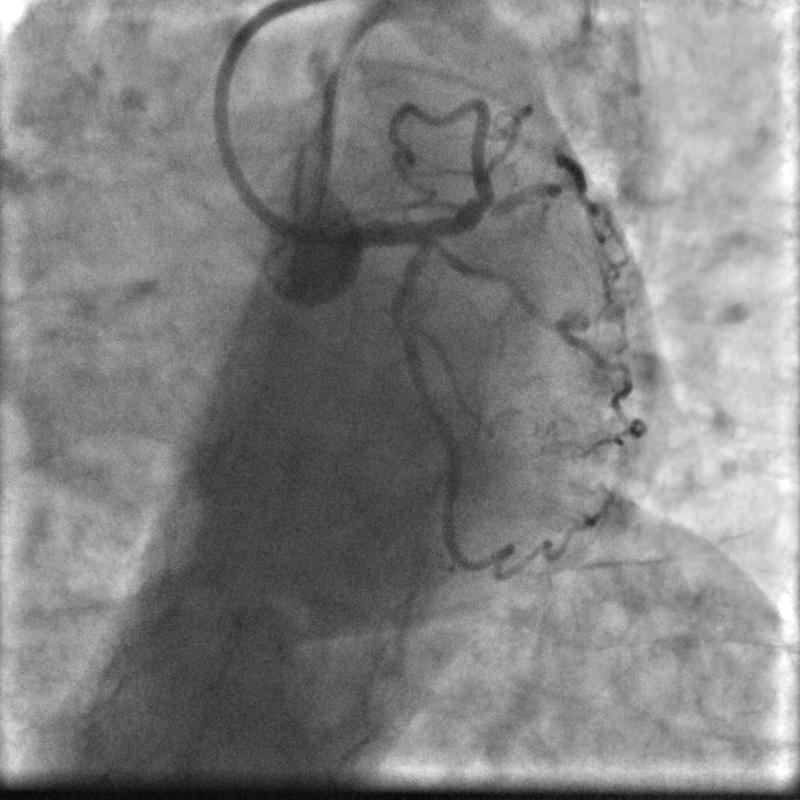Stenosis: (391, 307, 419, 348)
